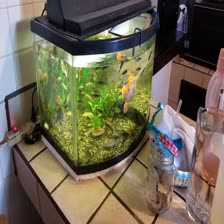Cuezo: (118, 73, 137, 101)
